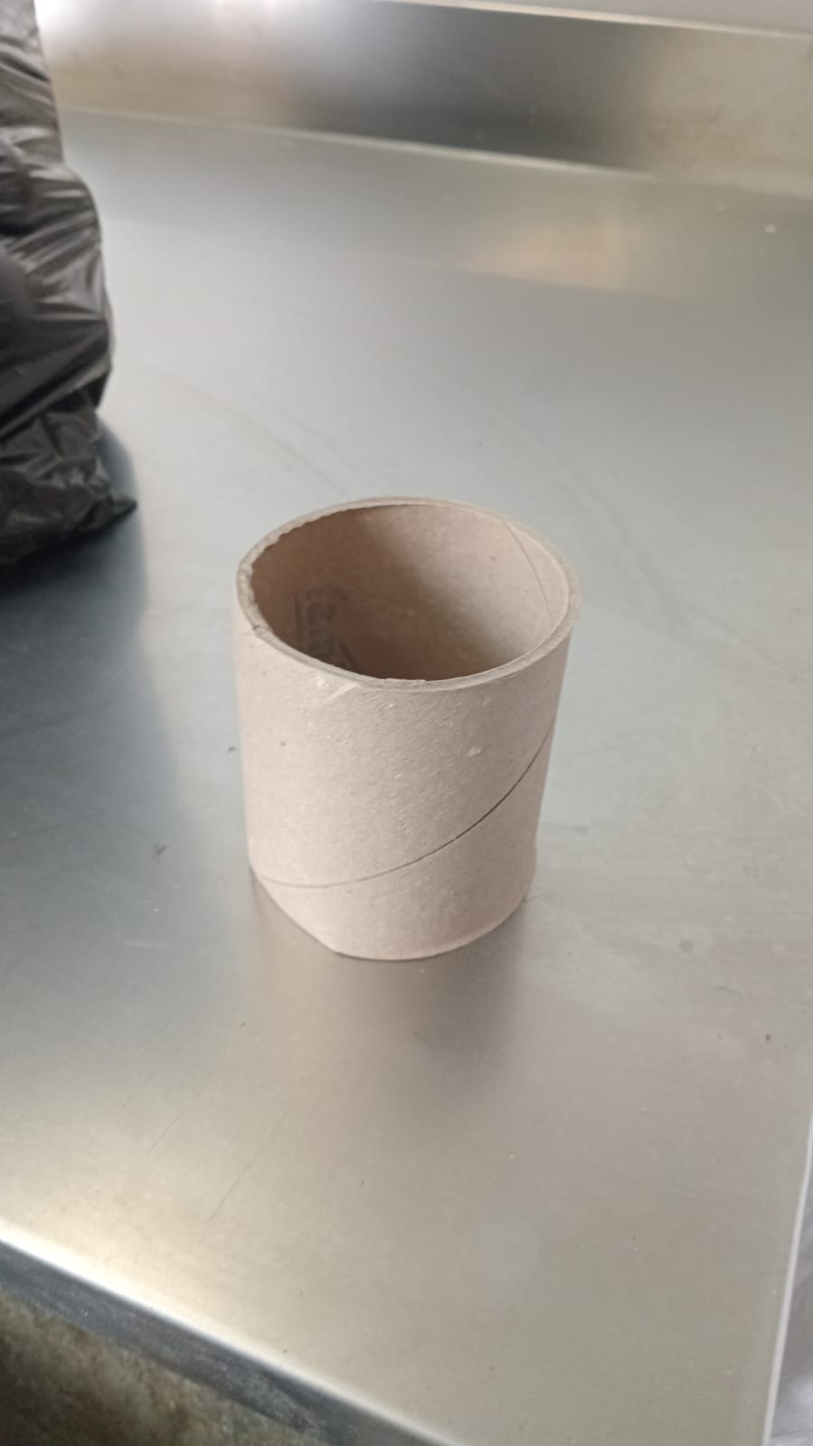Carton: (240, 498, 577, 960)
